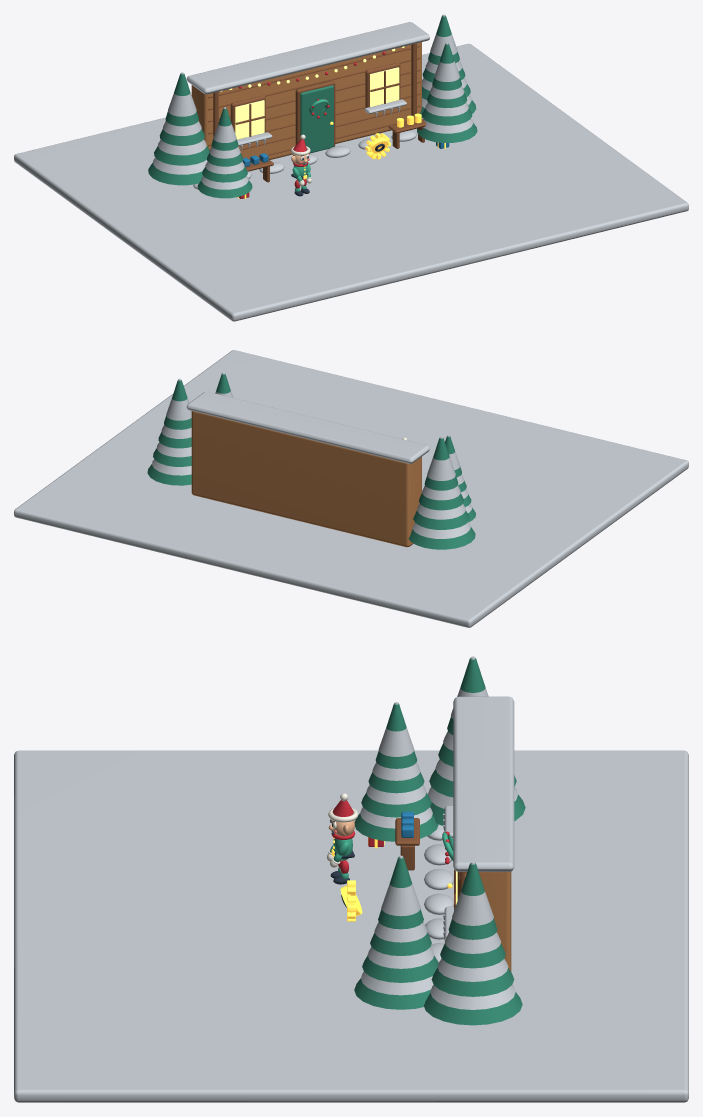
Rendered from chapter-01.glb.
The picture shows the model from 3 angles, top to bottom: view 1: azimuth 30°, elevation 25°; view 2: azimuth 150°, elevation 25°; view 3: azimuth 270°, elevation 25°; orthographic projection. The views are drawn at different scales.
Visible parts, largest first — view 1: Schneeboden, Werkstatt, Schneegesims, Wichteltür, Warmes Fenster, Warmes Fenster.001, Tannenzweig.008, Tannenzweig.009, Türrahmen, Tannenzweig.004, Tannenzweig.011, Schnee.011 (+6 smaller); view 2: Schneeboden, Werkstatt, Schneegesims, Tannenzweig.008, Tannenzweig.009, Tannenzweig.011, Schnee.008, Schnee.011, Tannenzweig.015, Tannenzweig.012, Tannenzweig.010, Schnee.009 (+1 smaller); view 3: Schneeboden, Schneegesims, Werkstatt, Tannenzweig.012, Tannenzweig.013, Tannenzweig.015, Schnee.012, Tannenzweig.005, Tannenzweig.004, Schnee.015, Tannenzweig.007, Schnee.013 (+14 smaller).
Part boxes in pixels (box(x1,y1,x2,y2)): Schneeboden: box(14, 43, 688, 321); Werkstatt: box(191, 42, 421, 160); Schneegesims: box(186, 22, 429, 94); Wichteltür: box(300, 85, 333, 153); Warmes Fenster: box(235, 100, 264, 139); Warmes Fenster.001: box(370, 67, 399, 106); Tannenzweig.008: box(148, 163, 202, 185); Tannenzweig.009: box(154, 146, 209, 165); Türrahmen: box(295, 81, 335, 146); Tannenzweig.004: box(417, 122, 477, 142); Tannenzweig.011: box(165, 73, 198, 126); Schnee.011: box(168, 72, 196, 116); Schneeboden: box(14, 350, 688, 627); Werkstatt: box(191, 411, 421, 547); Schneegesims: box(186, 391, 429, 463); Tannenzweig.008: box(408, 527, 475, 549); Tannenzweig.009: box(413, 510, 469, 529); Tannenzweig.011: box(424, 437, 458, 490); Schnee.008: box(412, 522, 470, 538); Schnee.011: box(427, 436, 455, 480); Tannenzweig.015: box(164, 380, 191, 429); Tannenzweig.012: box(147, 464, 191, 485); Tannenzweig.010: box(419, 493, 463, 510); Schnee.009: box(417, 504, 465, 519); Schneeboden: box(14, 750, 688, 1102); Schneegesims: box(453, 696, 514, 871); Werkstatt: box(466, 871, 511, 971); Tannenzweig.012: box(424, 992, 522, 1025); Tannenzweig.013: box(431, 968, 514, 996); Tannenzweig.015: box(448, 863, 497, 939); Schnee.012: box(430, 985, 515, 1009); Tannenzweig.005: box(362, 955, 438, 982); Tannenzweig.004: box(354, 978, 430, 1009); Schnee.015: box(452, 861, 493, 925); Tannenzweig.007: box(378, 857, 423, 929); Schnee.013: box(437, 959, 508, 981).
Bounding box in the file's own units: 18 × 4.39 × 15.
